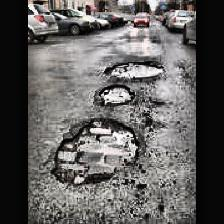pothole: (47, 116, 141, 188), (102, 61, 166, 79), (97, 86, 136, 106)
